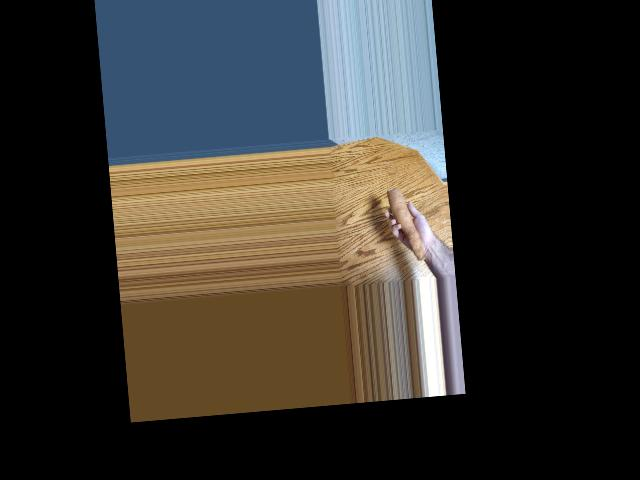sweet_potato: (384, 186, 427, 261)
